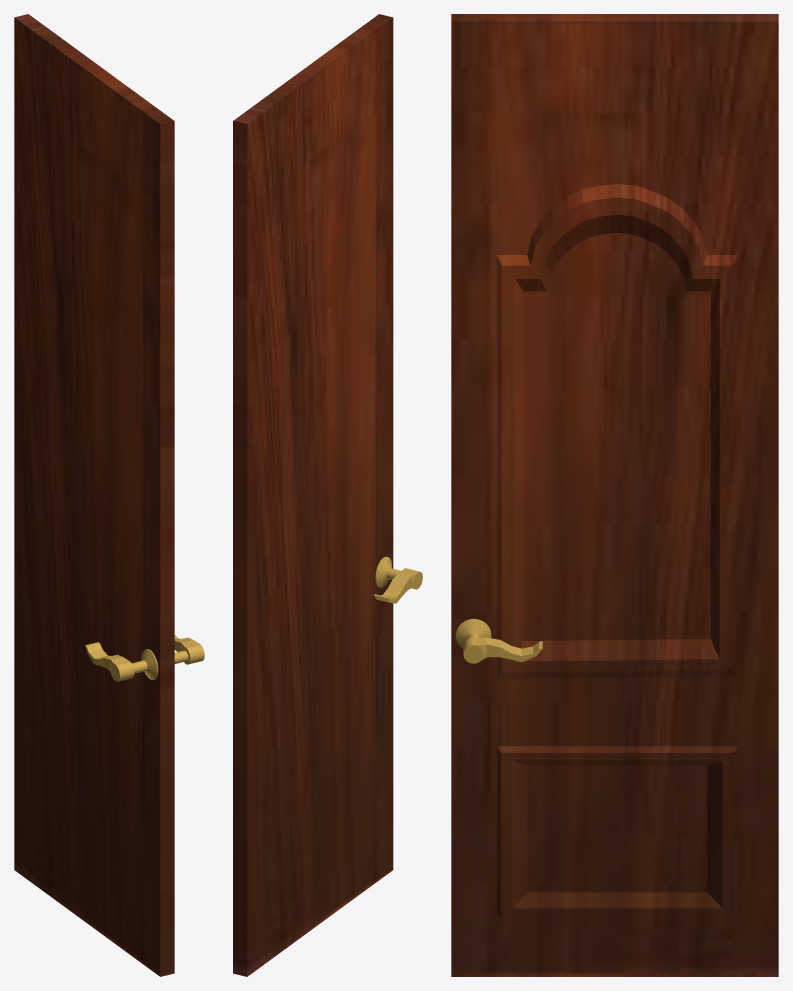
The model's file is door.fbx.
The picture shows the model from 3 angles, left to right: view 1: azimuth 30°, elevation 25°; view 2: azimuth 150°, elevation 25°; view 3: azimuth 270°, elevation 25°; orthographic projection. The views are drawn at different scales.
Visible parts, largest first — view 1: Cube, Circle.001; view 2: Cube, Circle.001; view 3: Cube, Circle.001.
Part boxes in pixels (box(x1,y1,x2,y2)): Cube: box(14, 14, 174, 976); Circle.001: box(85, 634, 204, 681); Cube: box(233, 14, 393, 976); Circle.001: box(374, 556, 422, 603); Cube: box(451, 14, 778, 976); Circle.001: box(456, 619, 542, 663).
Size of the model in its own units: 19.61 by 188 by 58.54.
